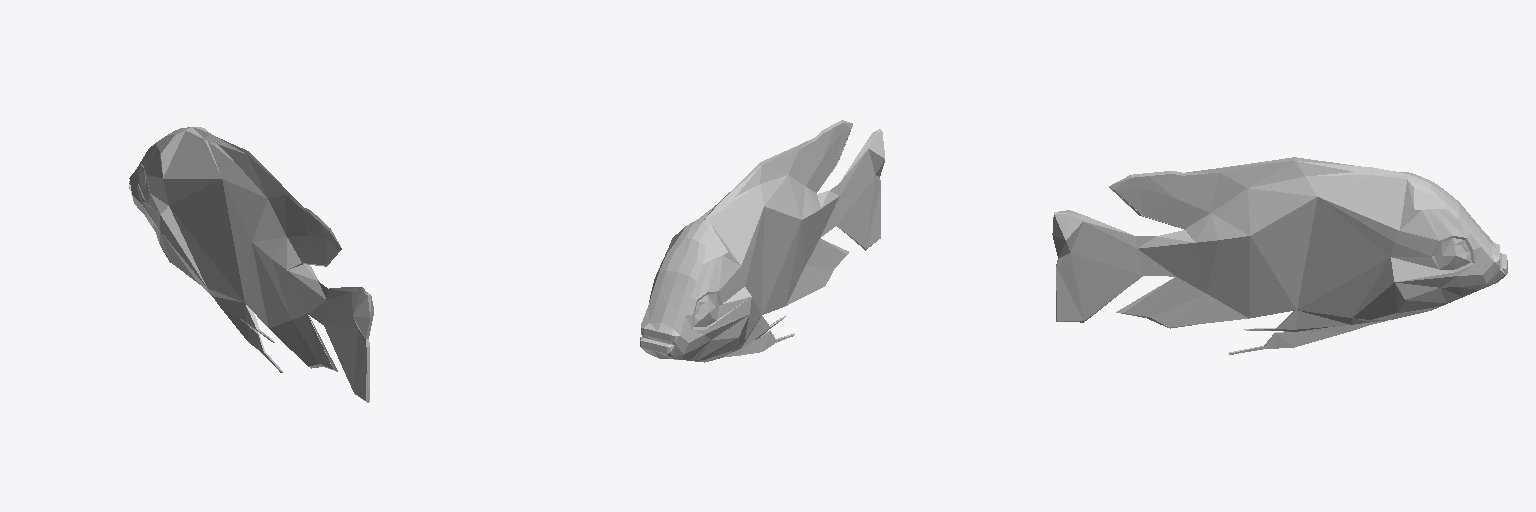
Rendered from fish_1.obj.
3 views of the same model, side by side, from view 1: azimuth 30°, elevation 25°; view 2: azimuth 150°, elevation 25°; view 3: azimuth 270°, elevation 25° (orthographic).
Parts seen in each view (by area): view 1: Plane; view 2: Plane; view 3: Plane.
Boxes of the visible parts, box(x1,y1,x2,y2) form: Plane: box(129, 127, 373, 402); Plane: box(640, 120, 884, 362); Plane: box(1052, 157, 1507, 354).
Bounding box in the file's own units: 2.09 × 4.99 × 10.39.